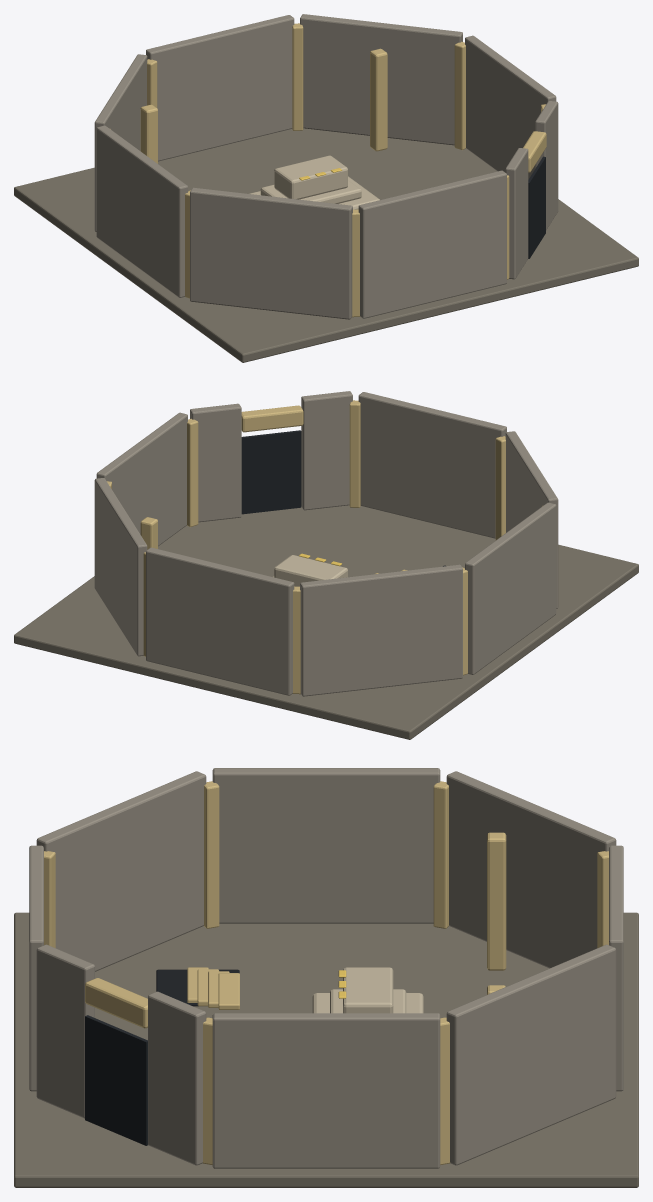
Rendered from advancement_altar_3984.glb.
The picture shows the model from 3 angles, top to bottom: view 1: azimuth 30°, elevation 25°; view 2: azimuth 150°, elevation 25°; view 3: azimuth 270°, elevation 25°; orthographic projection. The views are drawn at different scales.
Parts seen in each view (by area): view 1: Room floor, SW solid wall, S solid wall, NE solid wall, N solid wall, W solid wall, E solid wall, NW solid wall, SE doorway right, Sacred altar table, SE doorway left, Altar column.001 (+9 smaller); view 2: Room floor, NW solid wall, N solid wall, S solid wall, W solid wall, E solid wall, NE solid wall, SE doorway right, SE doorway left, SE passage shadow, SW solid wall, Sacred altar table (+6 smaller); view 3: Room floor, E solid wall, W solid wall, NE solid wall, SW solid wall, NW solid wall, SE doorway left, SE doorway right, SE passage shadow, Altar column, N solid wall, S solid wall (+12 smaller).
Part boxes in pixels (box(x1,y1,x2,y2)): Room floor: box(14, 128, 638, 362); SW solid wall: box(190, 187, 352, 319); S solid wall: box(358, 170, 506, 318); NE solid wall: box(300, 14, 462, 145); N solid wall: box(146, 15, 294, 161); W solid wall: box(96, 125, 187, 297); E solid wall: box(465, 35, 556, 179); NW solid wall: box(94, 54, 147, 231); SE doorway right: box(505, 148, 528, 279); Sacred altar table: box(274, 155, 347, 199); SE doorway left: box(535, 101, 558, 230); Altar column.001: box(370, 48, 387, 151); Room floor: box(14, 505, 638, 739); NW solid wall: box(300, 564, 462, 696); N solid wall: box(146, 547, 294, 695); S solid wall: box(358, 392, 506, 538); W solid wall: box(465, 502, 556, 674); E solid wall: box(96, 412, 187, 546); NE solid wall: box(94, 478, 147, 656); SE doorway right: box(301, 391, 352, 510); SE doorway left: box(190, 403, 241, 522); SE passage shadow: box(241, 430, 301, 514); SW solid wall: box(505, 431, 558, 608); Sacred altar table: box(274, 555, 347, 586); Room floor: box(14, 912, 638, 1187); E solid wall: box(212, 1013, 440, 1168); W solid wall: box(212, 768, 440, 923); NE solid wall: box(446, 944, 616, 1165); SW solid wall: box(36, 771, 206, 971); NW solid wall: box(446, 771, 616, 968); SE doorway left: box(148, 991, 206, 1165); SE doorway right: box(36, 944, 94, 1118); SE passage shadow: box(85, 1015, 147, 1145); Altar column: box(487, 832, 506, 970); N solid wall: box(609, 845, 623, 1091); S solid wall: box(29, 845, 43, 1091).
Bounding box in the file's own units: 18 × 5.2 × 18.
